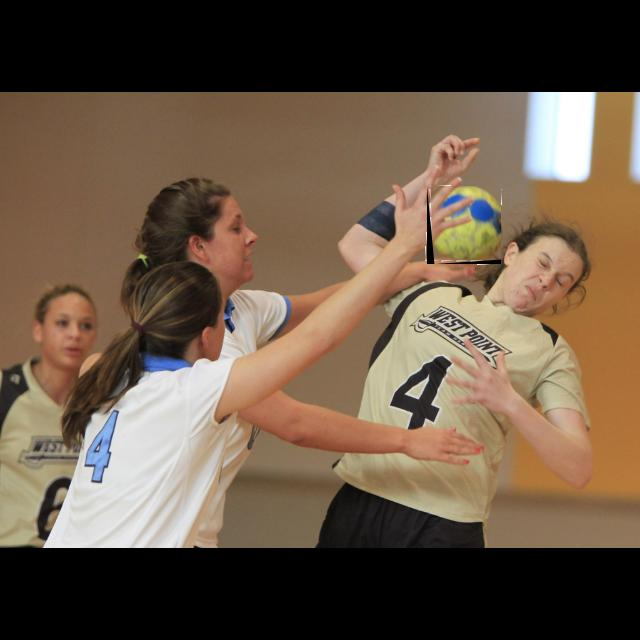Football: (427, 186, 501, 264)
